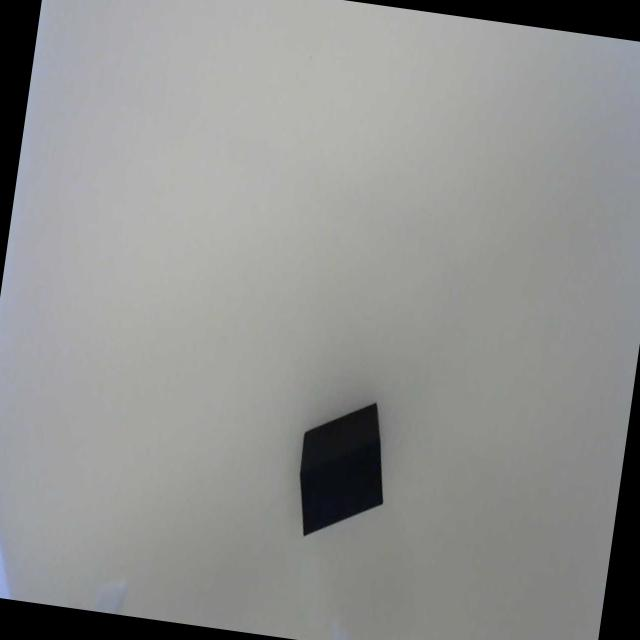rectangle: (300, 431, 384, 535)
